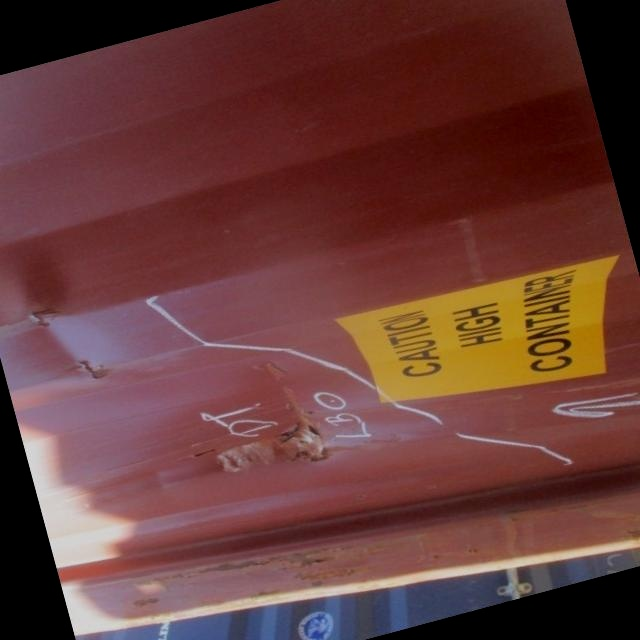Dent: (1, 131, 499, 605)
